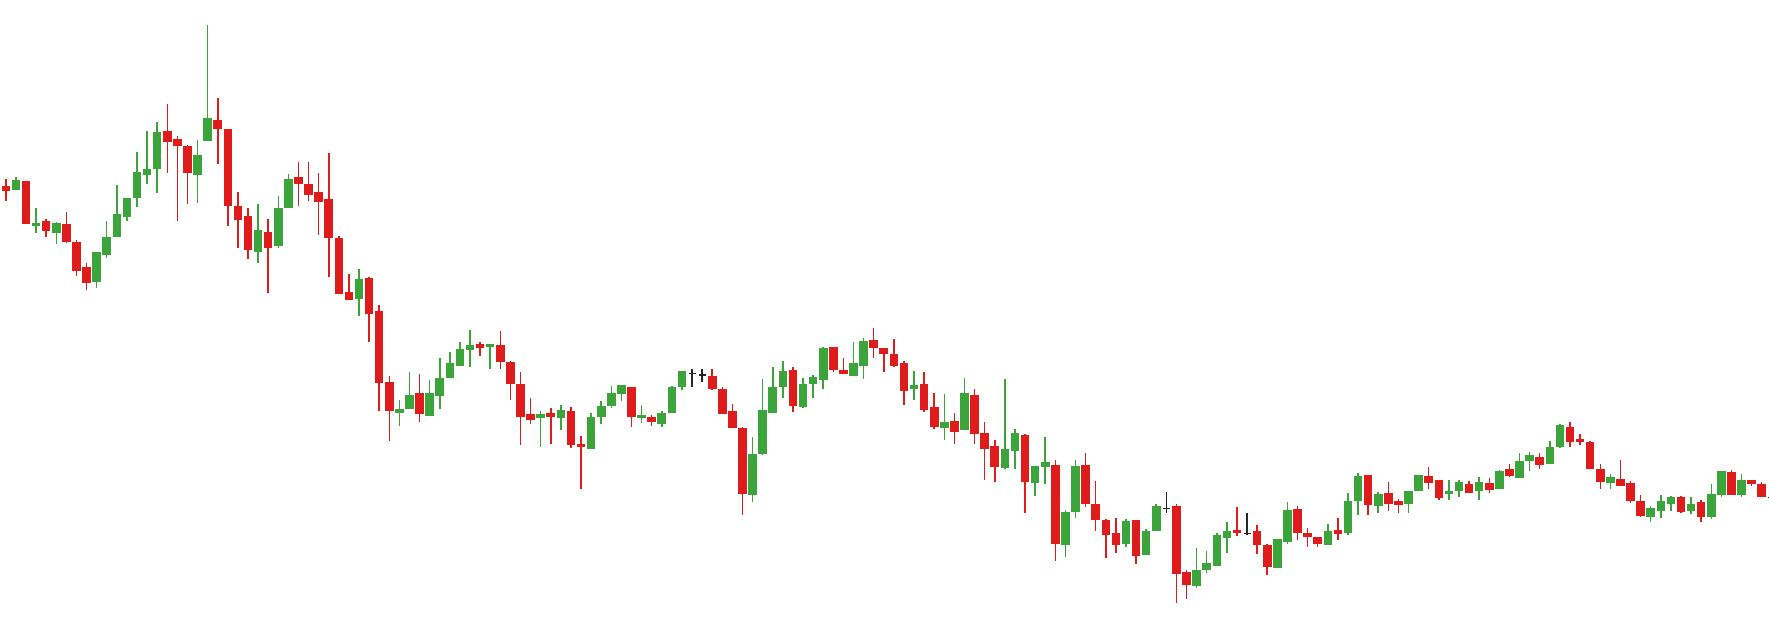buy: (577, 402, 760, 520), (1101, 514, 1202, 610)
